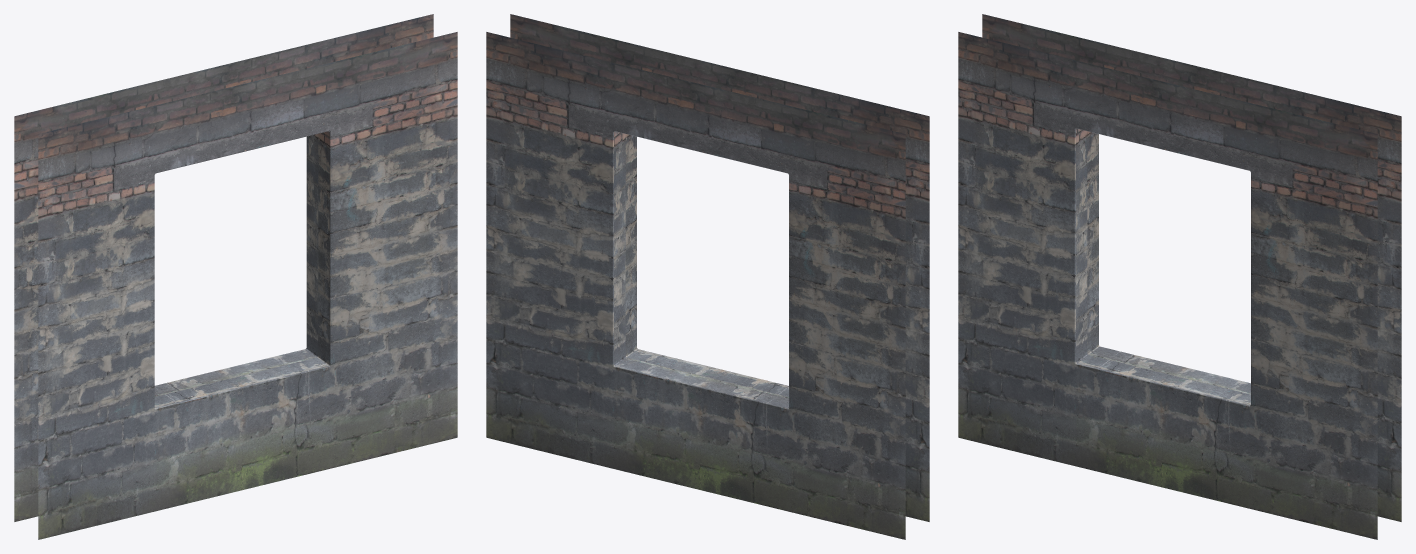
File: sm_Wall_06_11.fbx
The picture shows the model from 3 angles, left to right: view 1: azimuth 30°, elevation 25°; view 2: azimuth 150°, elevation 25°; view 3: azimuth 330°, elevation 25°; orthographic projection.
Parts seen in each view (by area): view 1: sm_Wall_06_11_LOD0; view 2: sm_Wall_06_11_LOD0; view 3: sm_Wall_06_11_LOD0.
Part boxes in pixels (x1=…): sm_Wall_06_11_LOD0: x1=14, y1=14, x2=457, y2=539; sm_Wall_06_11_LOD0: x1=486, y1=14, x2=929, y2=539; sm_Wall_06_11_LOD0: x1=958, y1=14, x2=1401, y2=539.
Bounding box in the file's own units: 40.31 × 400 × 370.
